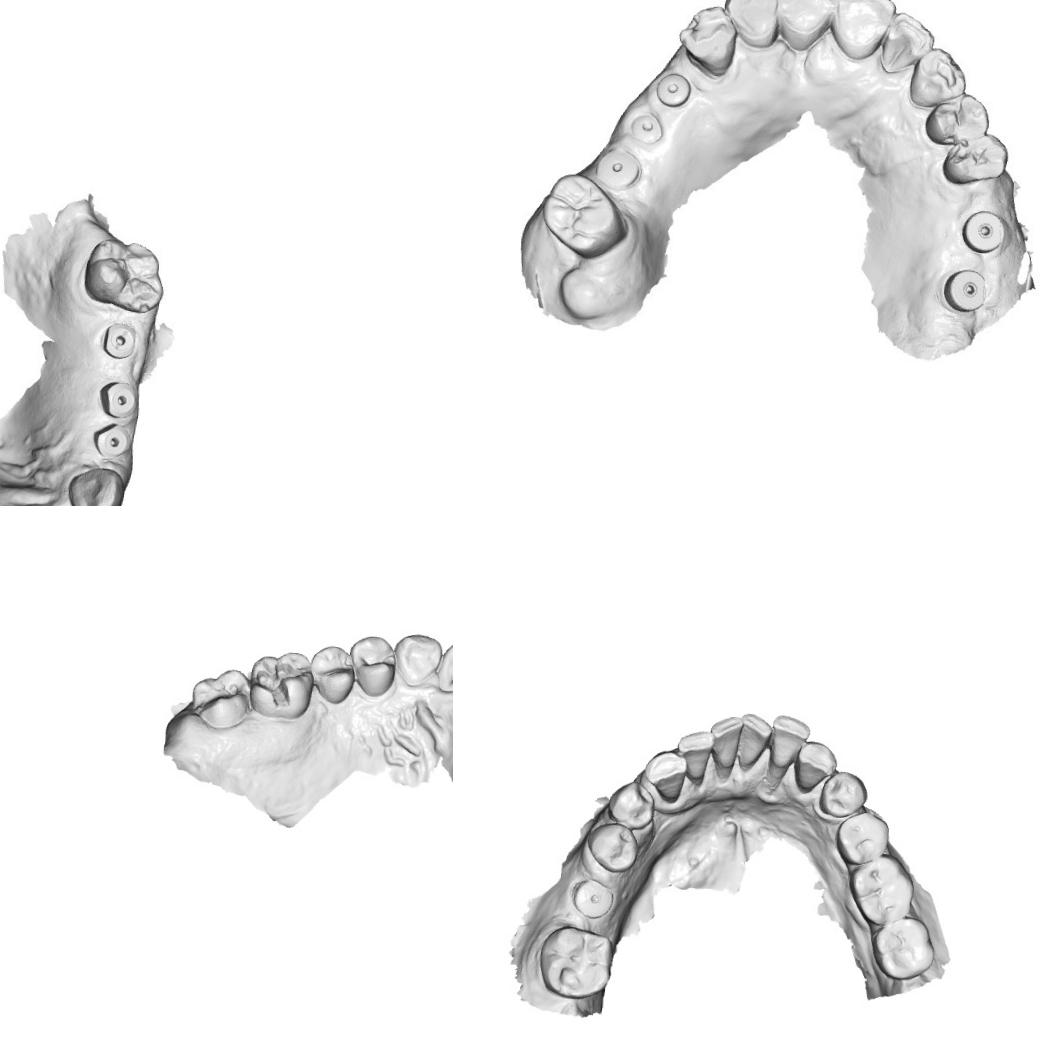canine: (676, 0, 738, 75), (904, 46, 966, 108), (391, 632, 442, 688), (642, 747, 688, 804), (792, 738, 838, 792), (69, 465, 125, 506)
implant: (940, 262, 988, 318), (956, 202, 1006, 253), (650, 66, 694, 112), (570, 877, 615, 920), (597, 146, 640, 188), (99, 376, 139, 418), (94, 420, 132, 460), (626, 109, 661, 144)
implant_minus: (99, 322, 142, 362)
incisor: (826, 0, 894, 61), (772, 0, 841, 49), (880, 14, 933, 74), (766, 714, 811, 784), (721, 0, 782, 48), (674, 728, 716, 788), (706, 714, 744, 780), (735, 710, 773, 772), (436, 640, 453, 696)
inlay: (247, 656, 310, 713)
molar: (535, 166, 630, 259), (90, 232, 166, 315), (536, 922, 614, 1002), (846, 851, 916, 928), (868, 913, 938, 982), (188, 665, 252, 731)
premolar: (345, 632, 399, 698), (832, 808, 890, 869), (924, 92, 986, 148), (307, 642, 358, 704), (584, 820, 640, 874), (944, 134, 1005, 183), (606, 778, 656, 831), (816, 769, 868, 819)
